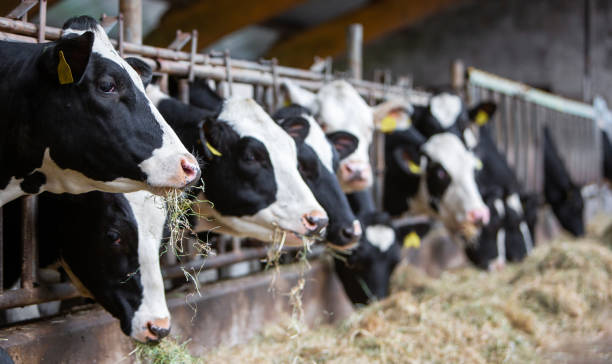cow: (1, 6, 194, 353), (199, 70, 397, 323)
